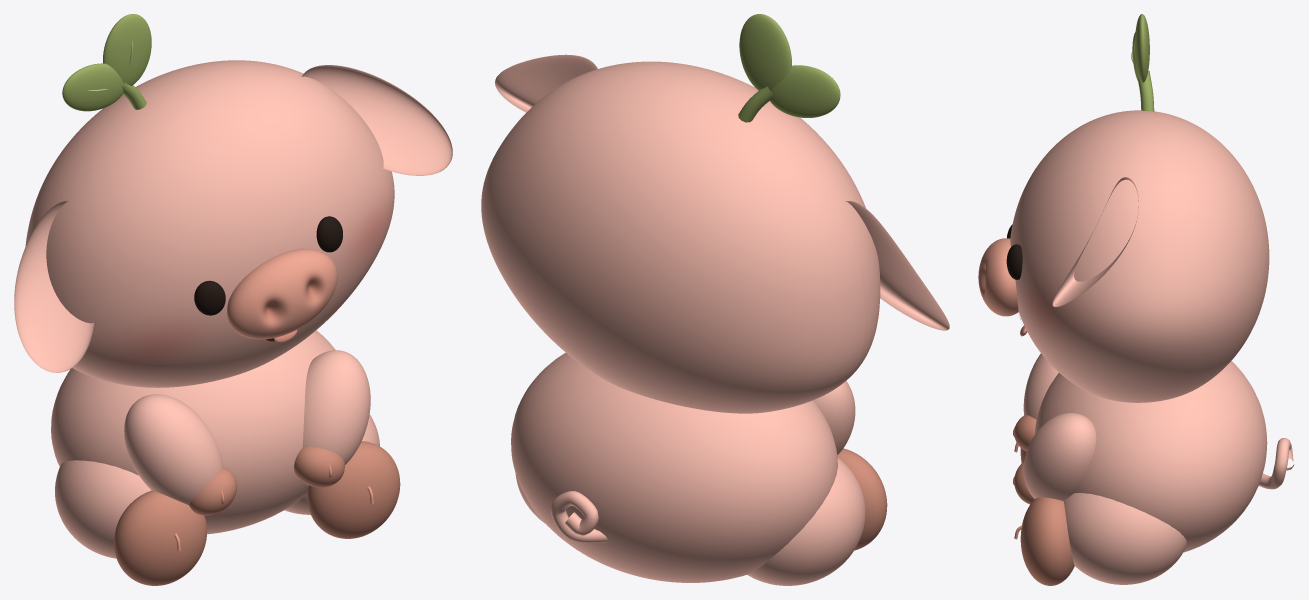
The model's file is sprout-pig-study-v1.glb.
The picture shows the model from 3 angles, left to right: view 1: azimuth 30°, elevation 25°; view 2: azimuth 150°, elevation 25°; view 3: azimuth 270°, elevation 25°; orthographic projection. The views are drawn at different scales.
Visible parts, largest first — view 1: round-cheek-head, seated-body, arm--1, drooping-ear-1, snout-with-recessed-nostrils, foot--1, drooping-ear--1, arm-1, foot-1, haunch--1, sprout-right-leaf, sprout-left-leaf (+5 smaller); view 2: round-cheek-head, seated-body, haunch--1, drooping-ear--1, drooping-ear-1, sprout-right-leaf, sprout-left-leaf, foot--1, curled-tail-proposal, arm--1, sprout-stem; view 3: round-cheek-head, seated-body, haunch-1, arm-1, foot-1, snout-with-recessed-nostrils, arm--1, drooping-ear-1, curled-tail-proposal, sprout-right-leaf, hand--1, glossy-eye-1 (+2 smaller).
Boxes of the visible parts, box(x1,y1,x2,y2) form: round-cheek-head: box(25, 60, 394, 387); seated-body: box(51, 330, 335, 534); arm--1: box(124, 394, 223, 504); drooping-ear-1: box(301, 65, 452, 175); snout-with-recessed-nostrils: box(227, 248, 337, 339); foot--1: box(114, 490, 206, 585); drooping-ear--1: box(14, 200, 95, 372); arm-1: box(302, 350, 370, 464); foot-1: box(307, 441, 400, 538); haunch--1: box(55, 460, 151, 558); sprout-right-leaf: box(103, 14, 151, 85); sprout-left-leaf: box(62, 63, 123, 111); round-cheek-head: box(481, 61, 880, 413); seated-body: box(511, 352, 837, 582); haunch--1: box(747, 458, 865, 585); drooping-ear--1: box(845, 201, 949, 330); drooping-ear-1: box(495, 54, 597, 112); sprout-right-leaf: box(739, 14, 791, 90); sprout-left-leaf: box(770, 65, 840, 117); foot--1: box(837, 448, 887, 550); curled-tail-proposal: box(550, 491, 608, 542); arm--1: box(813, 381, 855, 454); sprout-stem: box(738, 86, 773, 122); round-cheek-head: box(1010, 110, 1269, 402); seated-body: box(1034, 361, 1267, 552); haunch-1: box(1064, 493, 1186, 584); arm-1: box(1023, 413, 1096, 501); foot-1: box(1020, 497, 1074, 585); snout-with-recessed-nostrils: box(978, 238, 1018, 316); arm--1: box(1023, 353, 1058, 419); drooping-ear-1: box(1052, 177, 1138, 306); curled-tail-proposal: box(1258, 438, 1294, 489); sprout-right-leaf: box(1134, 14, 1149, 82); hand--1: box(1014, 415, 1036, 451); glossy-eye-1: box(1006, 244, 1022, 279).
Bounding box in the file's own units: 0.8264 × 0.9939 × 0.5834.
